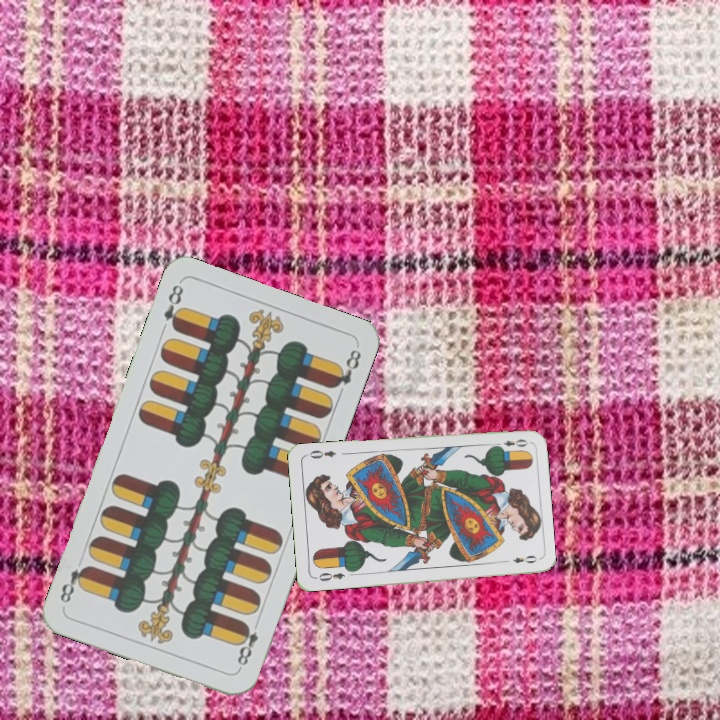E8: (233, 616, 263, 672), (159, 280, 187, 334)
EO: (490, 435, 530, 451), (311, 568, 347, 584)
